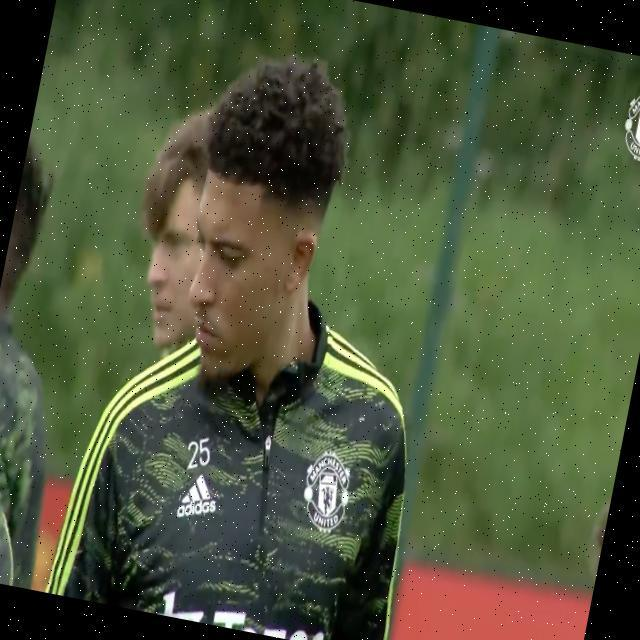Adidas: (174, 472, 223, 527)
